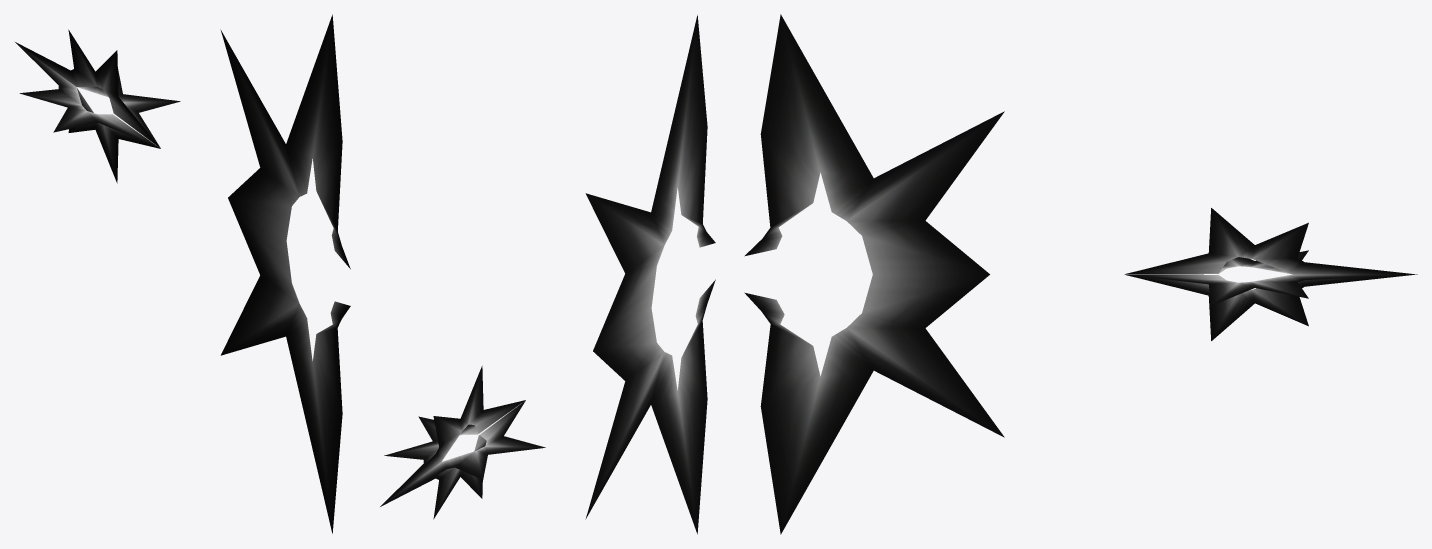
File: zhufudatianshizhijueduifuwenmobang002.fbx
3 renders of one model, left to right at view 1: azimuth 30°, elevation 25°; view 2: azimuth 150°, elevation 25°; view 3: azimuth 270°, elevation 25°, orthographic.
Parts seen in each view (by area): view 1: zhufudatianshizhijueduifuwenmobang002; view 2: zhufudatianshizhijueduifuwenmobang002; view 3: zhufudatianshizhijueduifuwenmobang002.
Boxes of the visible parts, bbox=[...] form: zhufudatianshizhijueduifuwenmobang002: bbox=[15, 14, 350, 533]; zhufudatianshizhijueduifuwenmobang002: bbox=[380, 15, 715, 534]; zhufudatianshizhijueduifuwenmobang002: bbox=[744, 14, 1417, 534].
Bounding box in the file's own units: 100 × 390 × 457.
Materials: 1 (1 with a texture image).
